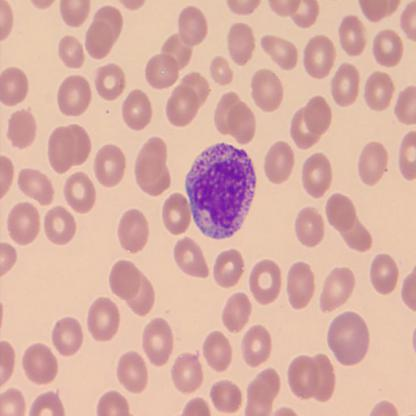Metamyelocyte: (183, 140, 257, 240)
